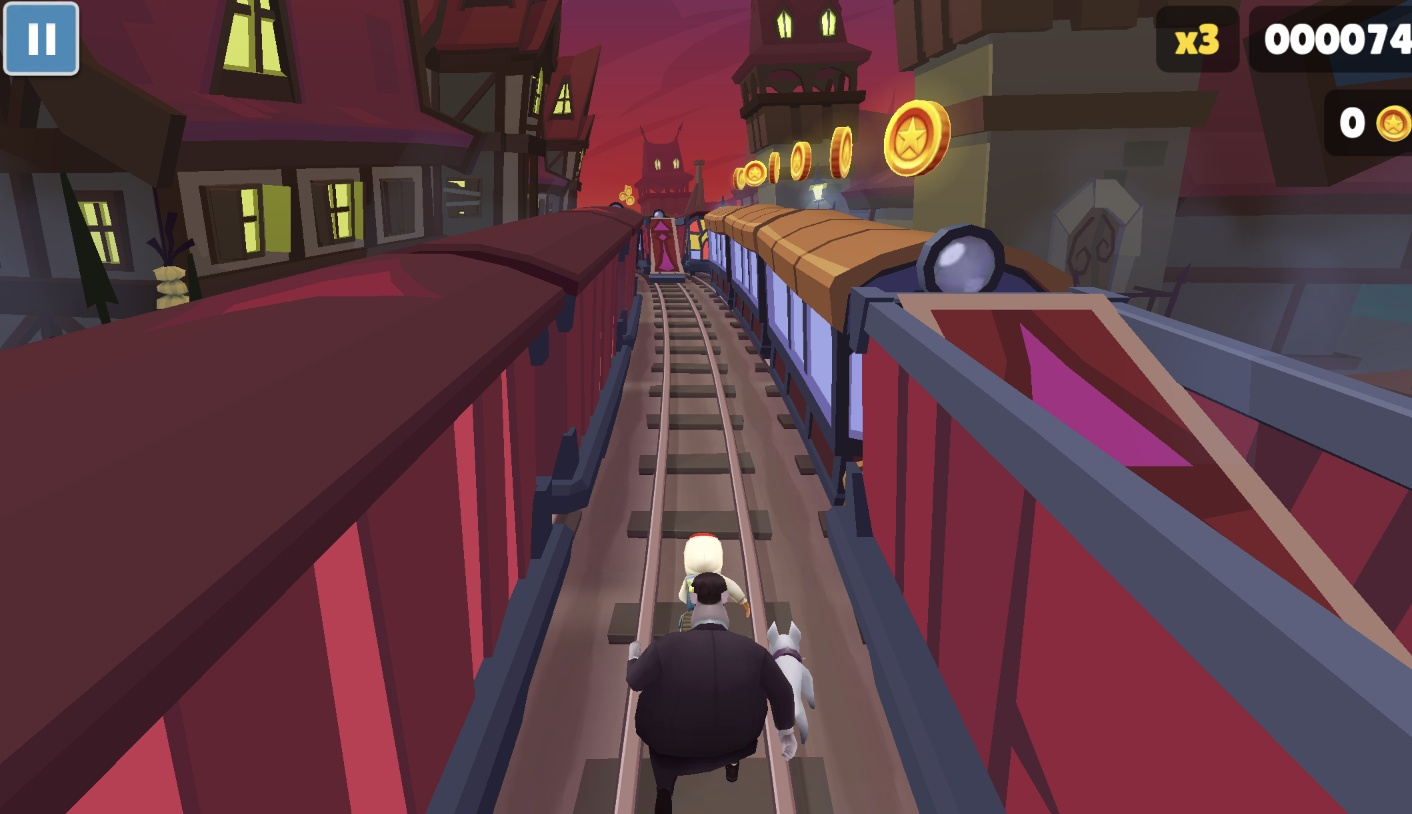train: (0, 207, 644, 814), (818, 224, 1412, 814), (698, 203, 1084, 495), (637, 210, 691, 286), (683, 211, 724, 279)
